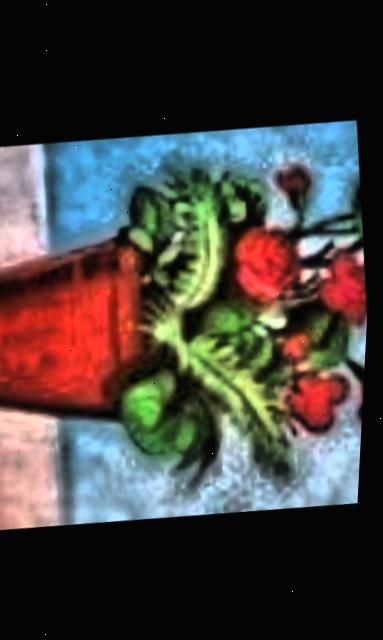La Maceta: (0, 109, 379, 539)
